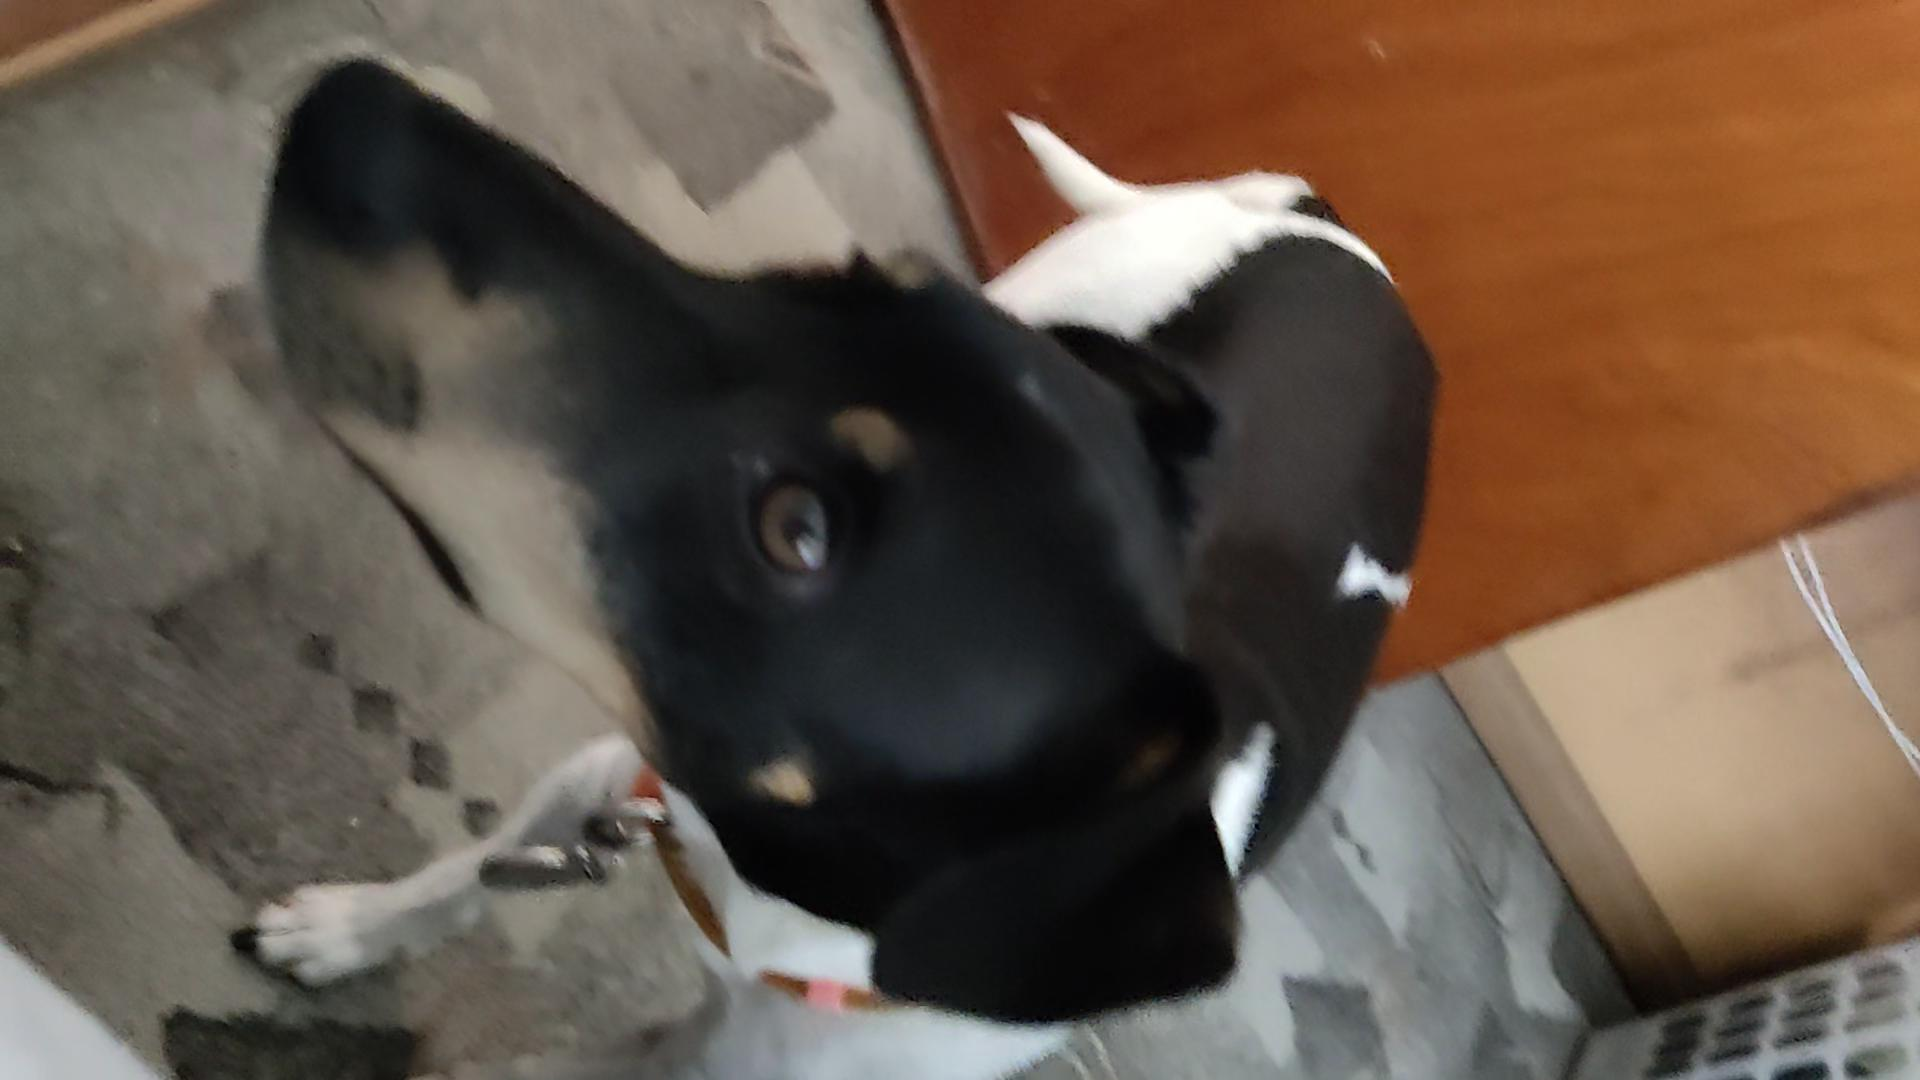Dog: (189, 24, 1490, 1079)
